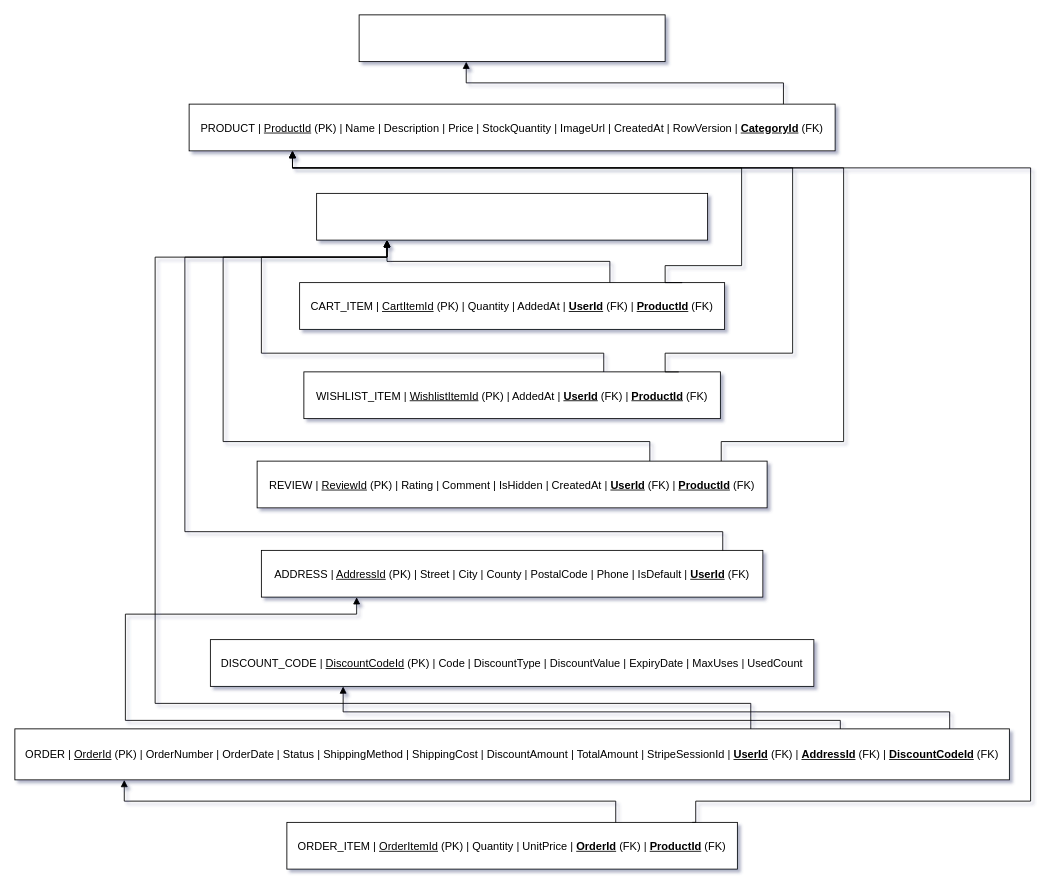
This 1057x889 diagram has some shape labels left out. The centre of each missing label's shape, as x and y in pixels:
"CATEGORY | CategoryId (PK) | Name | Slug | Description" goes at (511,38).
"USER | UserId (PK) | Email | PasswordHash | FullName | Role | CreatedAt" goes at (512,216).
